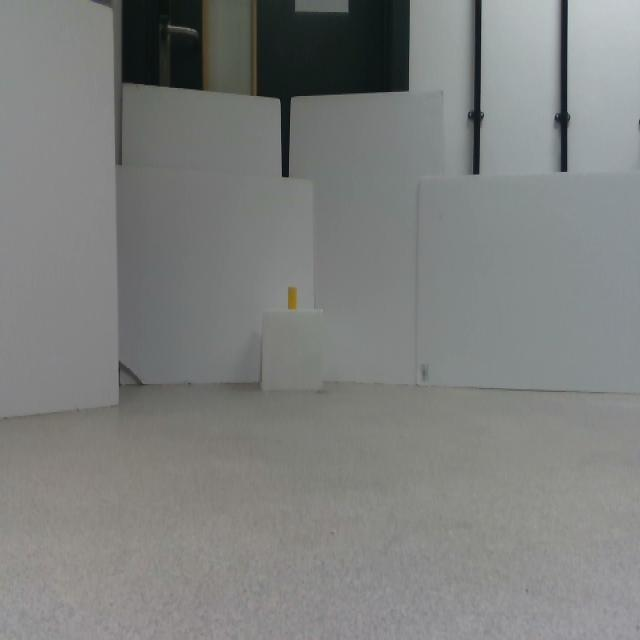yellow_cylinder: (288, 286, 297, 310)
